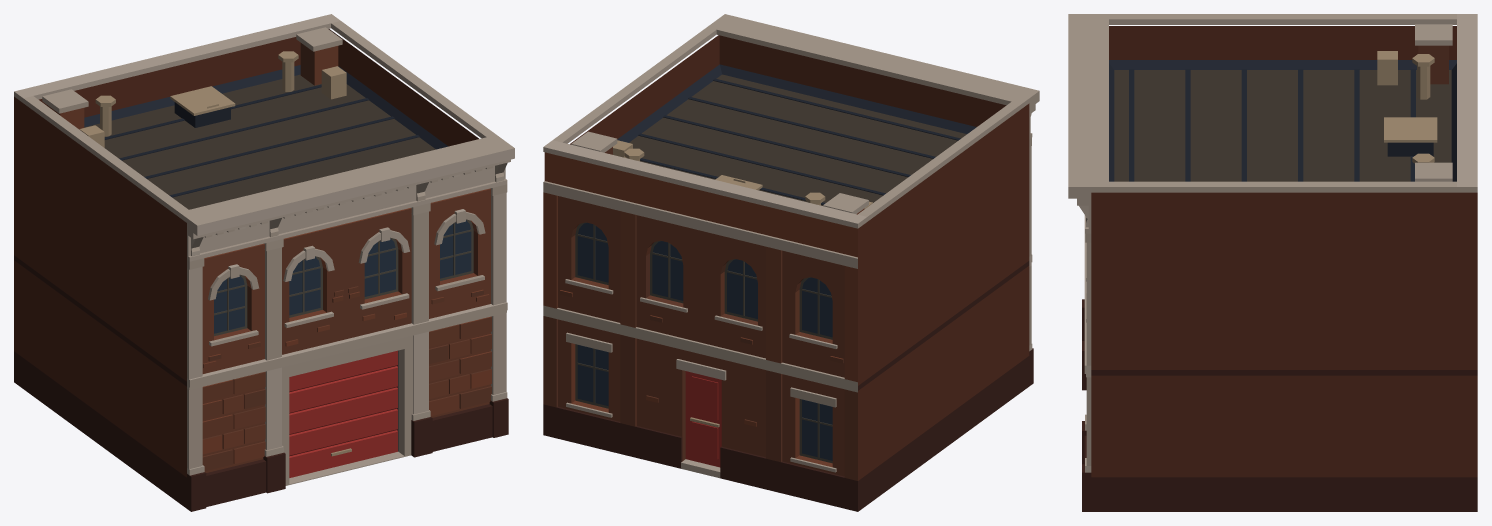
File: fire-station-e2b756.glb
3 renders of one model, left to right at view 1: azimuth 30°, elevation 25°; view 2: azimuth 150°, elevation 25°; view 3: azimuth 270°, elevation 25°, orthographic. The views are drawn at different scales.
Parts seen in each view (by area): view 1: station-body, bay-door-leaf, roof-hatch-lid; view 2: station-body; view 3: station-body, roof-hatch-lid.
Part boxes in pixels (left/top/right/bottom): station-body: left=14, top=14, right=514, bottom=511; bay-door-leaf: left=289, top=350, right=397, bottom=477; roof-hatch-lid: left=170, top=86, right=235, bottom=115; station-body: left=543, top=14, right=1039, bottom=511; station-body: left=1068, top=14, right=1477, bottom=511; roof-hatch-lid: left=1384, top=117, right=1437, bottom=142.
Bounding box in the file's own units: 8 × 7 × 8.
